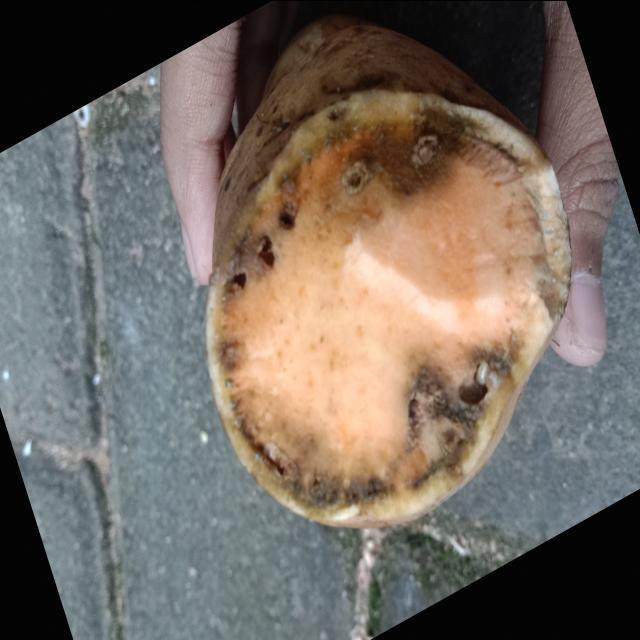Sick Sweet Potato_Tuber Rot: (206, 87, 570, 527)
